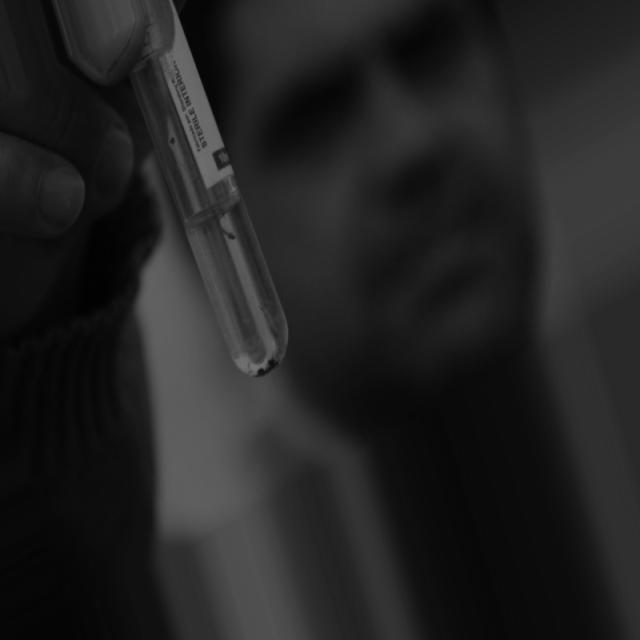larvas: (260, 304, 280, 343), (220, 214, 235, 239)
